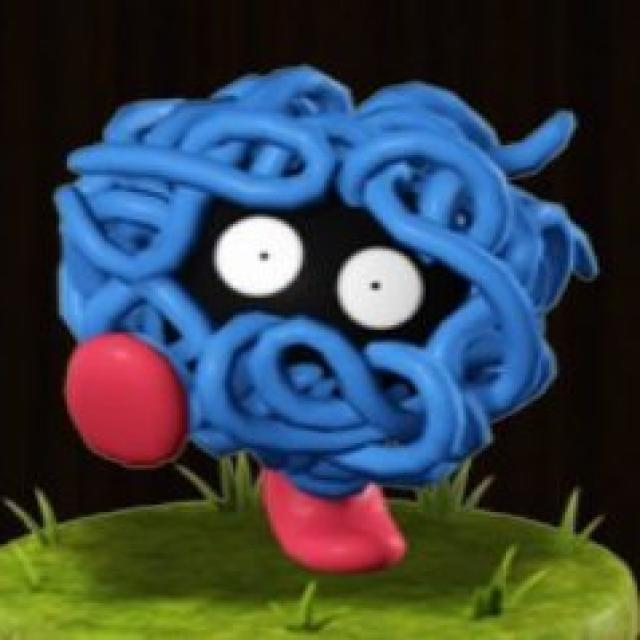Tangela: (45, 54, 614, 576)
